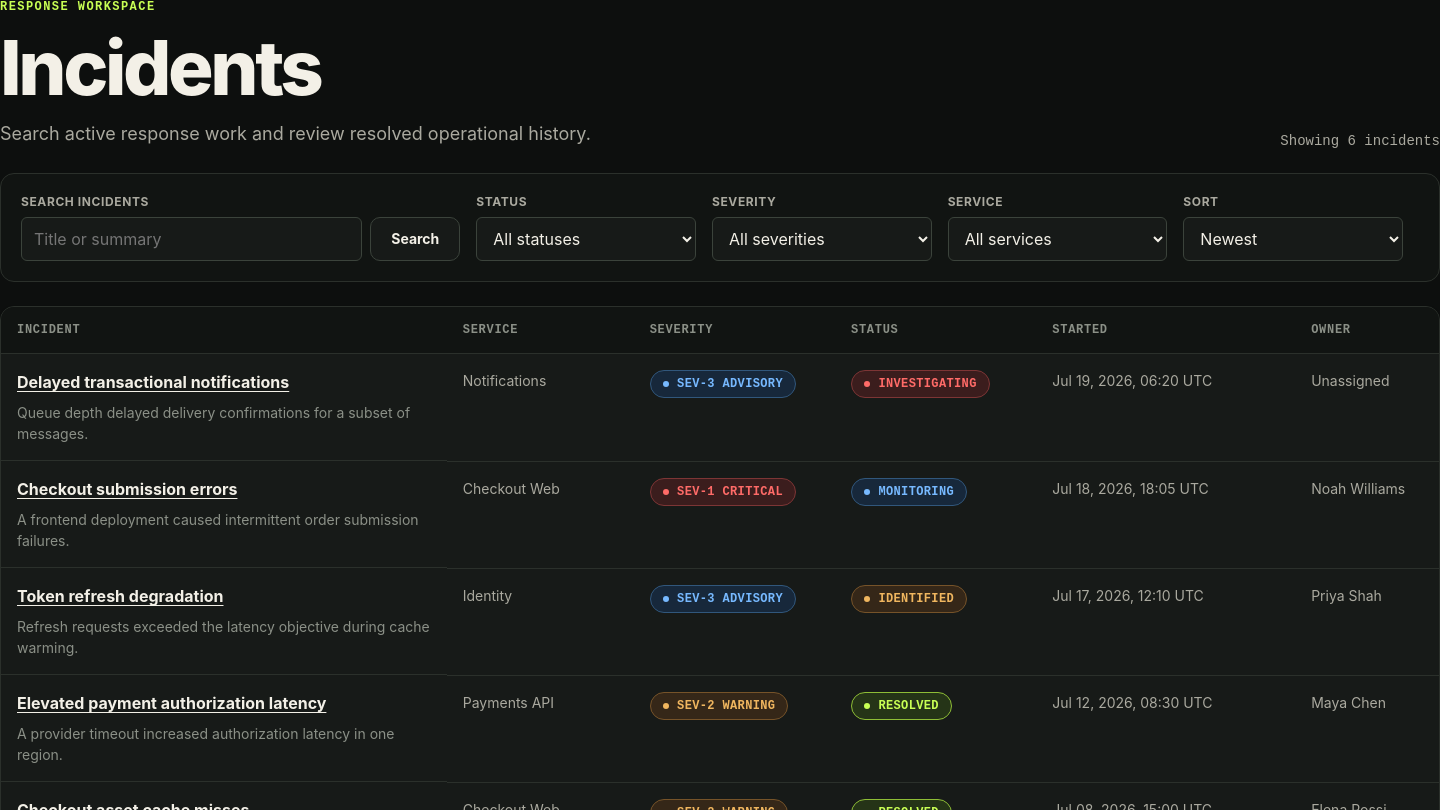
Test case: IncidentsPage › submits and clears search through the URL
The width and height of the screenshot is (1440, 810).
Check: the text "Showing 6 incidents" is shown, box [1280,133,1439,149]
In the search field labelled "Search incidents": (192, 239) [21,217,362,261], type "  checkout  "
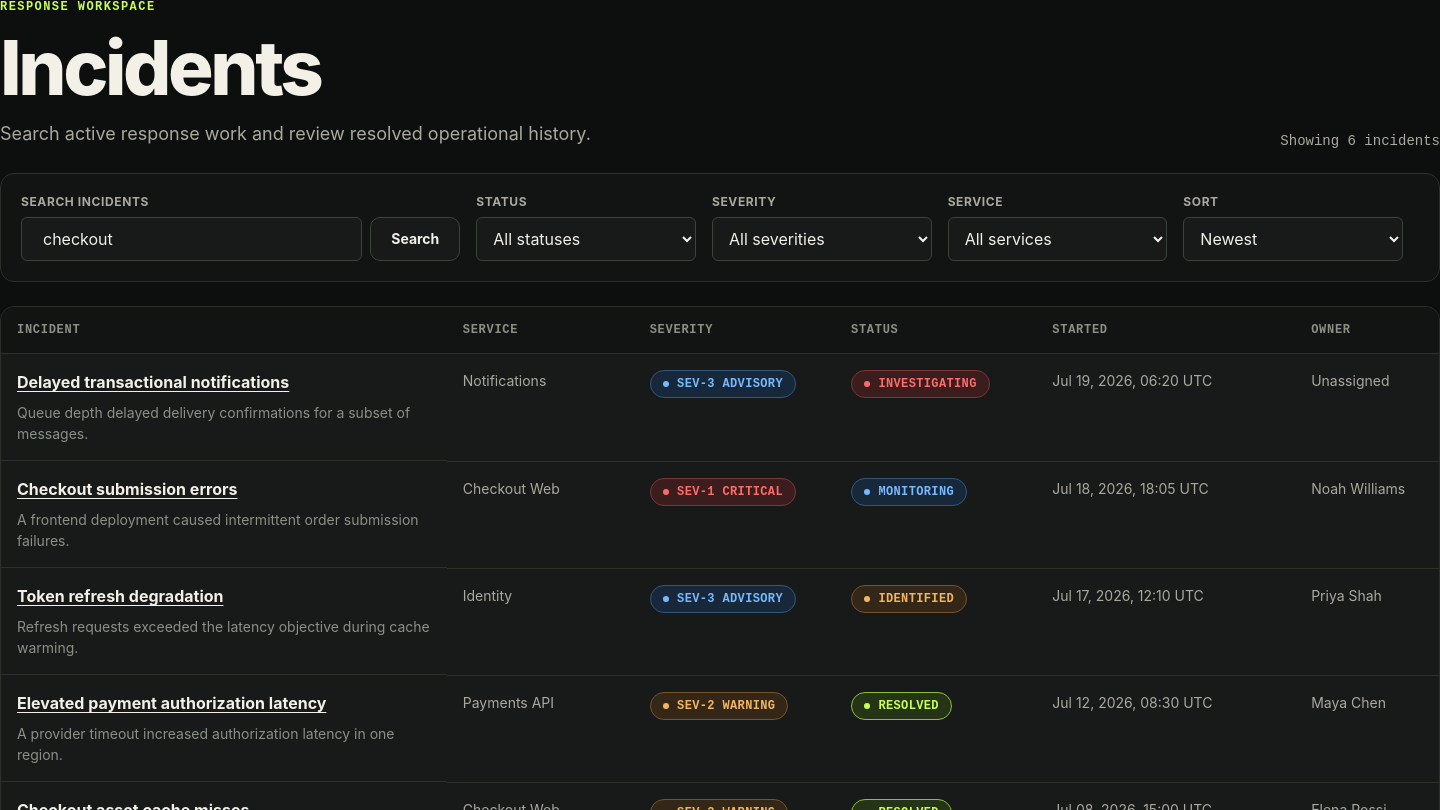
Press Enter in the search field labelled "Search incidents", box [21,217,362,261]
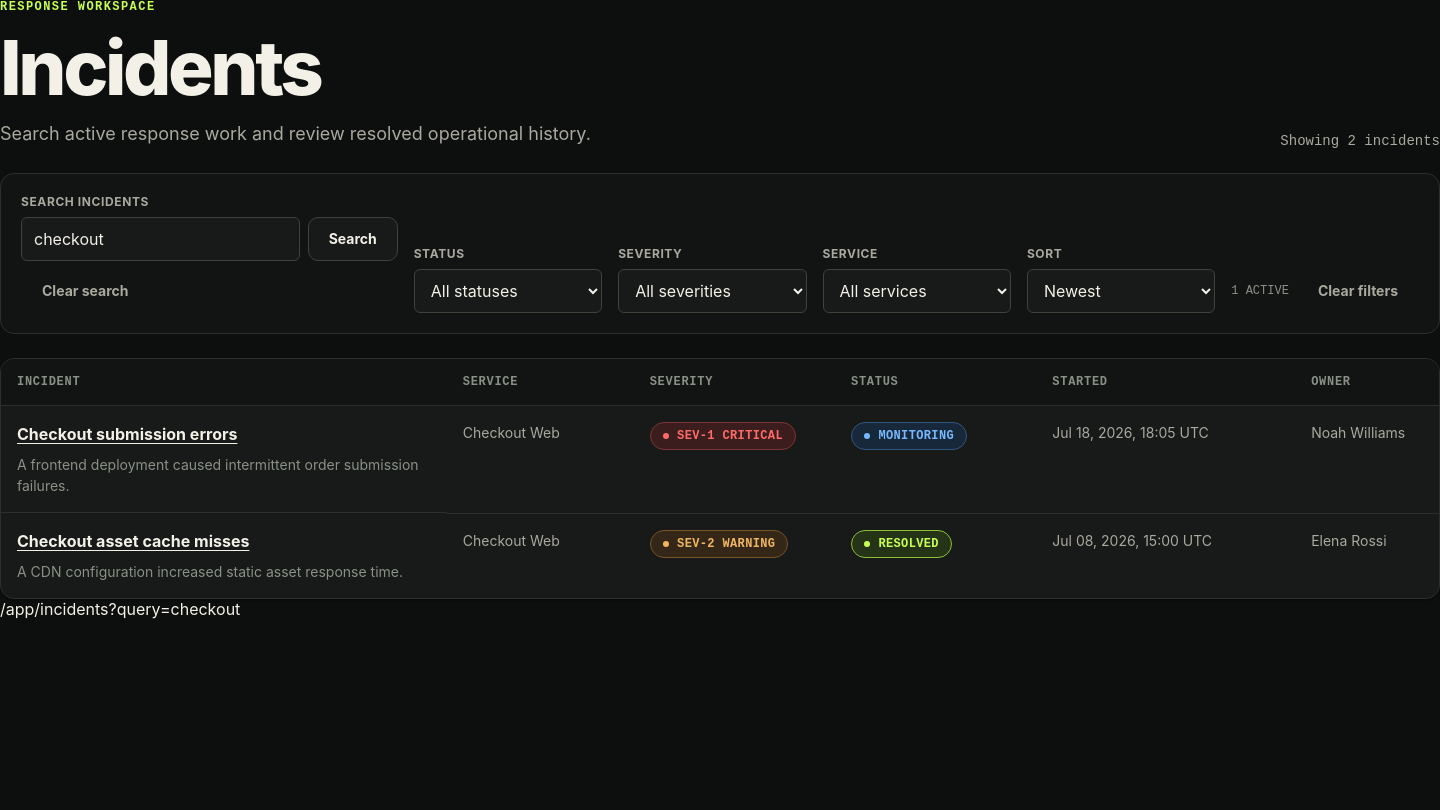
Check: the text "Showing 2 incidents" is shown, box [1280,133,1439,149]
Check: the text with test id "location" reads "/app/incidents?query=checkout", box [0,599,240,619]
Click the button "Clear search": (85, 291) [21,269,150,313]
(page scrolled)
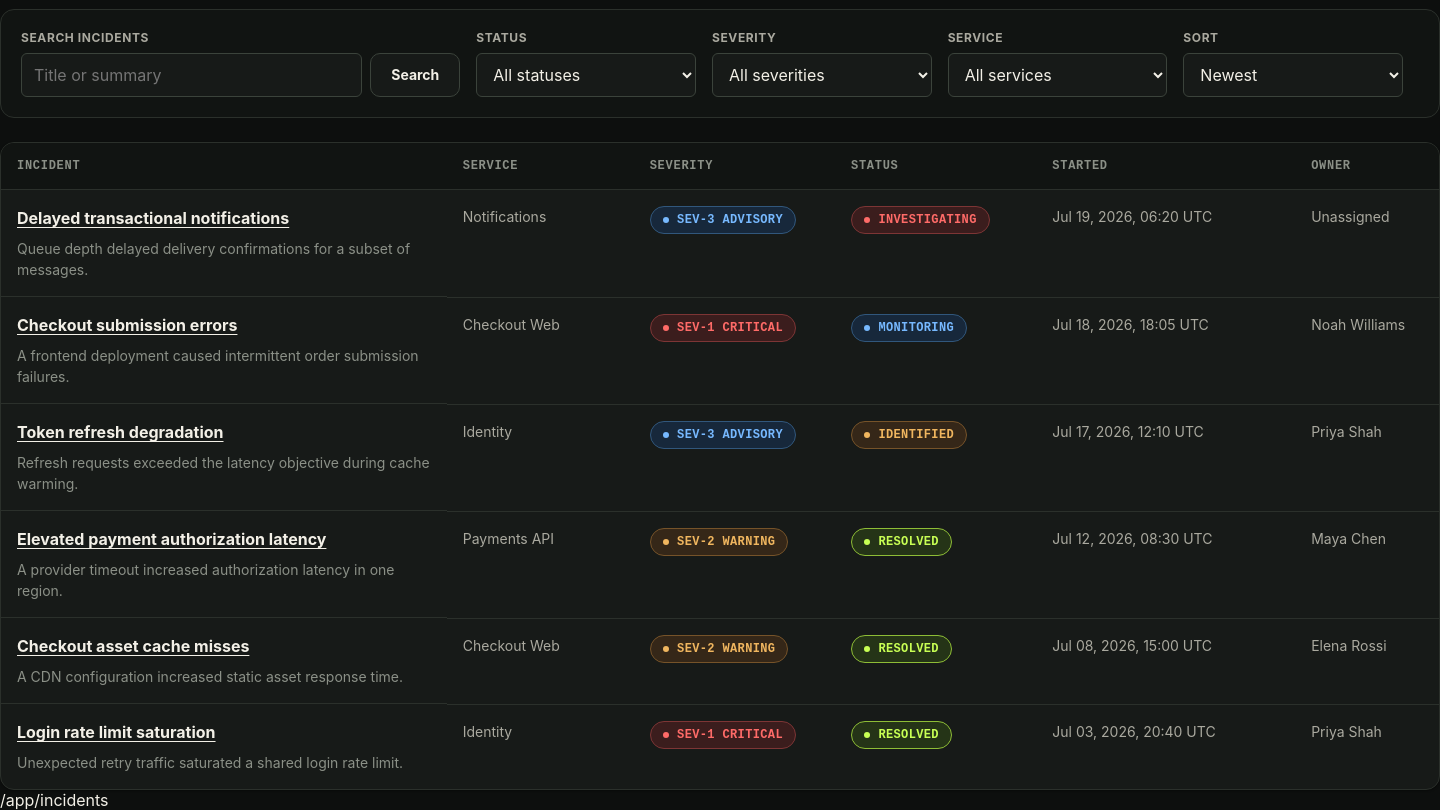
Check: the text with test id "location" reads "/app/incidents", box [0,790,109,809]
